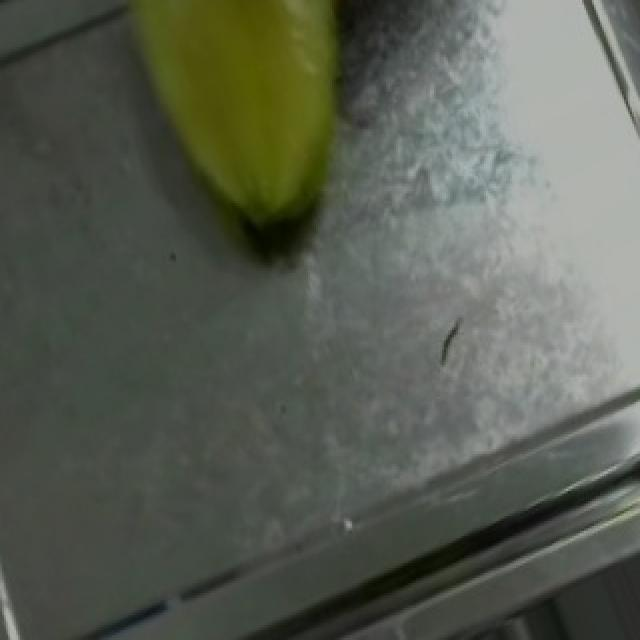fruit: (84, 0, 410, 270)
